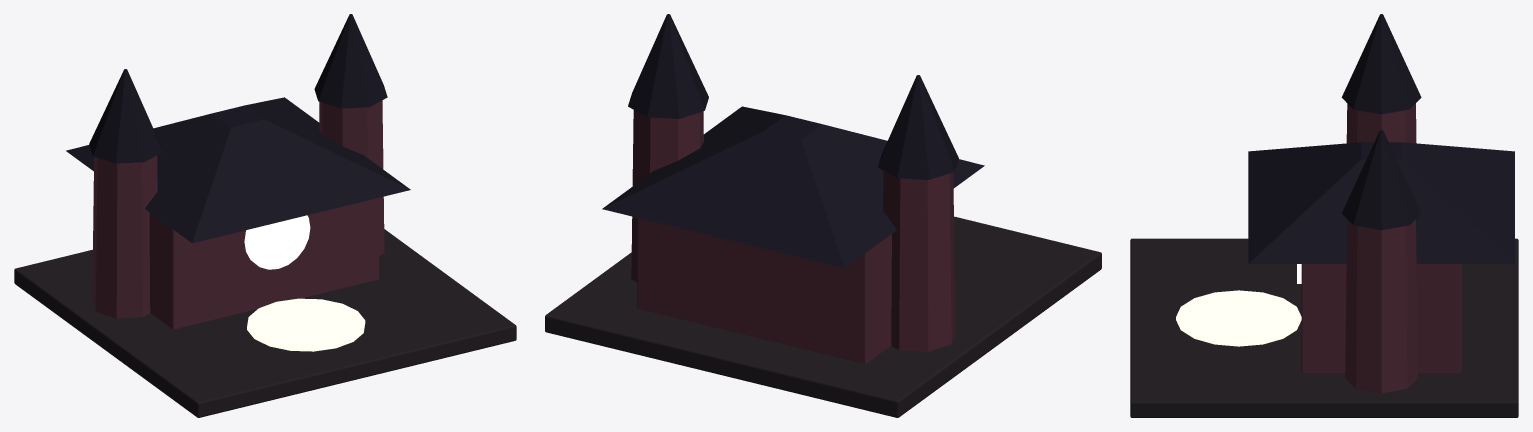
Rendered from palace-of-earth-spirits.glb.
The picture shows the model from 3 angles, left to right: view 1: azimuth 30°, elevation 25°; view 2: azimuth 150°, elevation 25°; view 3: azimuth 270°, elevation 25°; orthographic projection. The views are drawn at different scales.
Parts seen in each view (by area): view 1: palace-of-earth-spirits_Opaque, palace-of-earth-spirits_Emissive; view 2: palace-of-earth-spirits_Opaque; view 3: palace-of-earth-spirits_Opaque, palace-of-earth-spirits_Emissive.
Part boxes in pixels (bbox=[...]): palace-of-earth-spirits_Opaque: bbox=[14, 14, 516, 417]; palace-of-earth-spirits_Emissive: bbox=[244, 215, 365, 351]; palace-of-earth-spirits_Opaque: bbox=[545, 14, 1101, 417]; palace-of-earth-spirits_Opaque: bbox=[1130, 14, 1518, 417]; palace-of-earth-spirits_Emissive: bbox=[1176, 264, 1301, 346].
Size of the model in its own units: 34 by 25.5 by 34.
